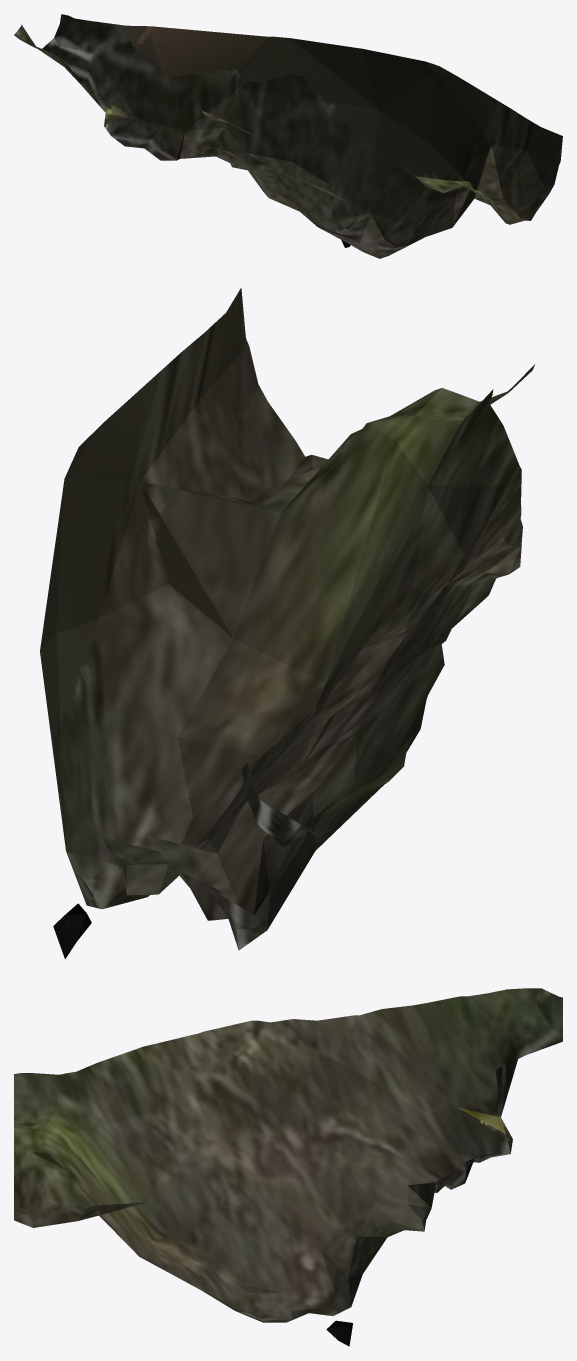
3 renders of one model, top to bottom at view 1: azimuth 30°, elevation 25°; view 2: azimuth 150°, elevation 25°; view 3: azimuth 270°, elevation 25°, orthographic. The views are drawn at different scales.
Size of the model in its own units: 2.1 by 1.35 by 2.95.
2 materials, 2 textured.
